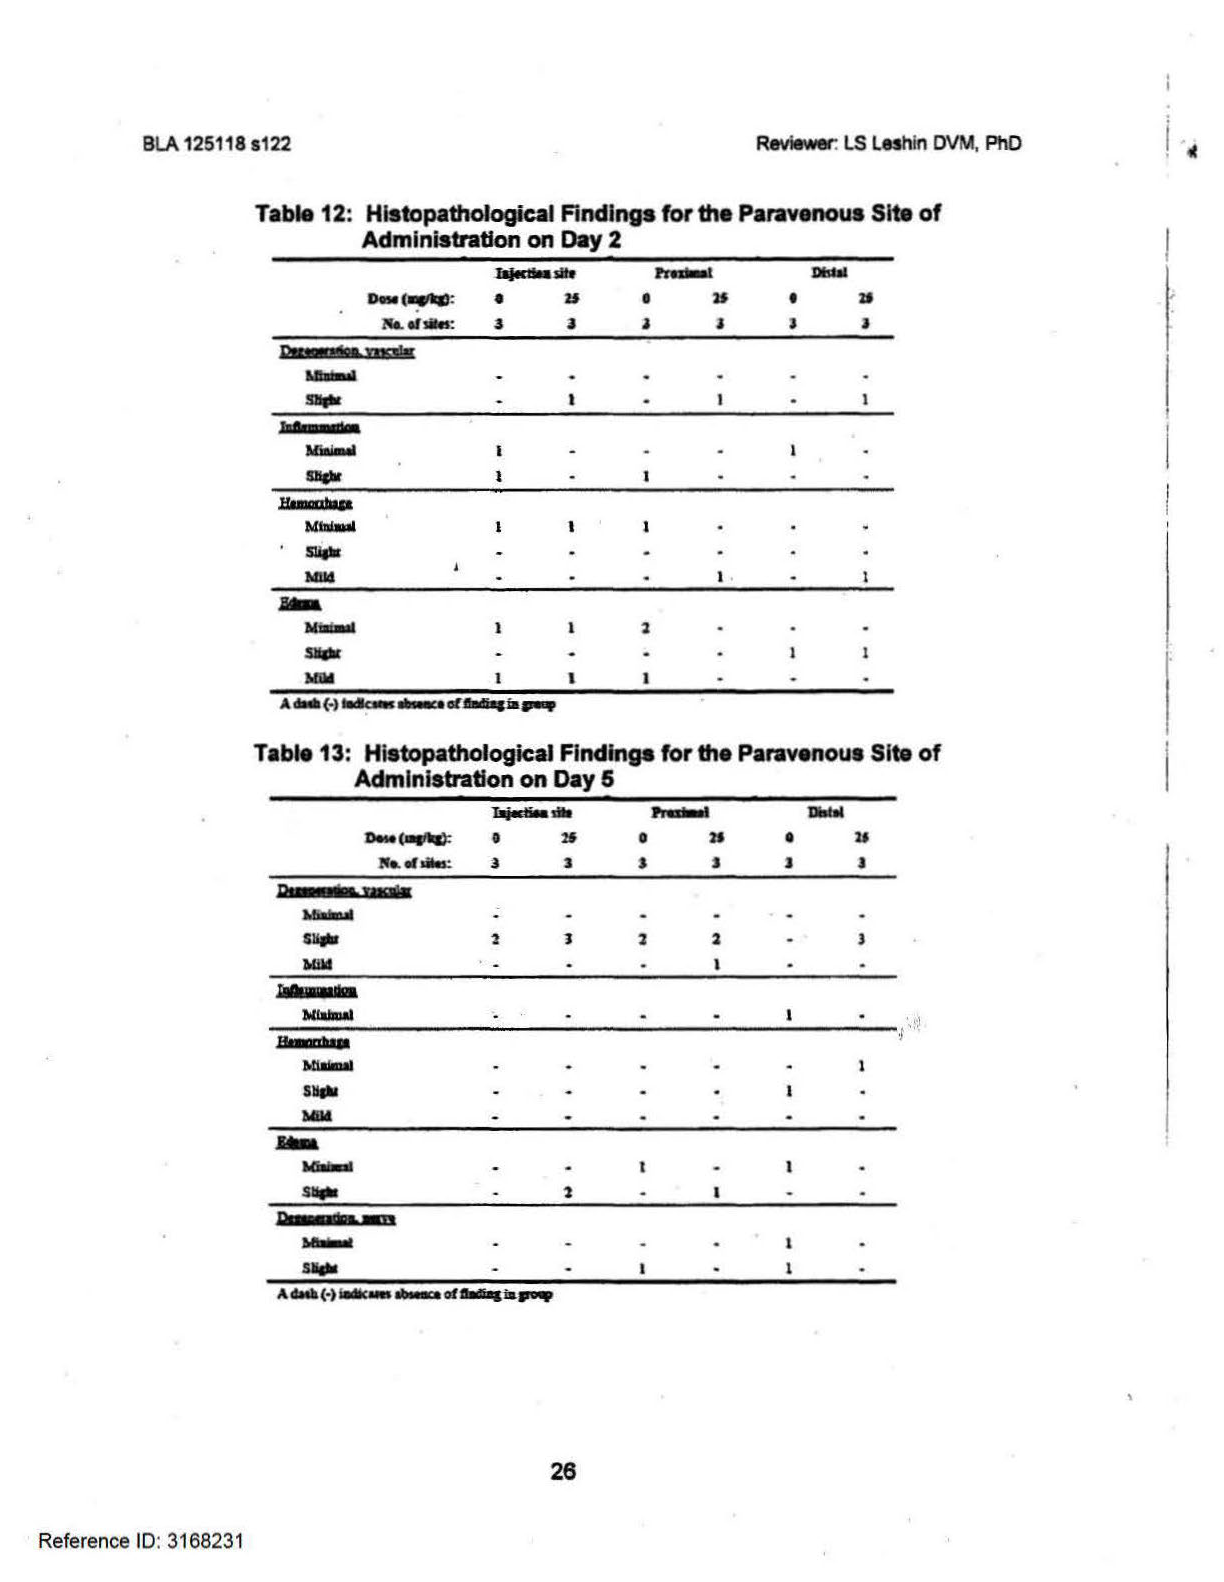partial_lined_merged_cells: (265, 795, 899, 1284), (268, 254, 895, 696)
